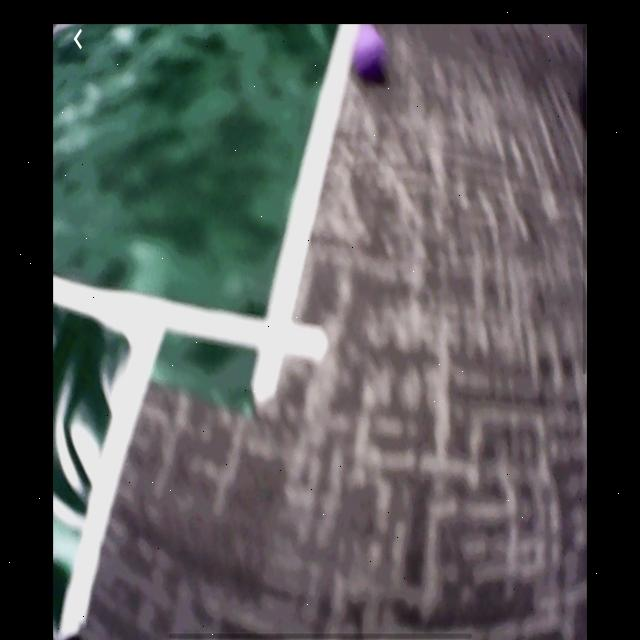ball: (353, 30, 389, 75)
